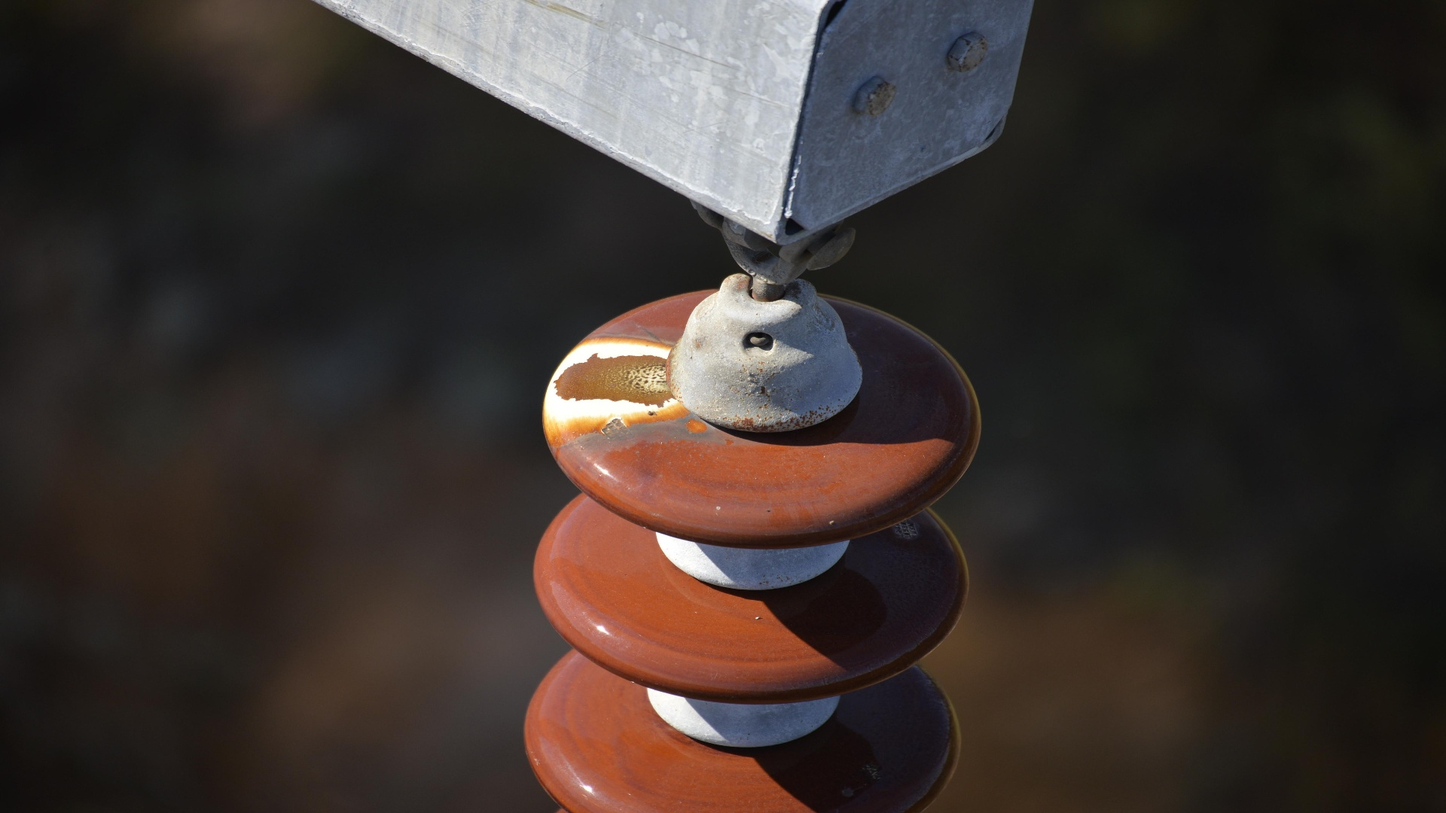insulator: (516, 279, 987, 813)
